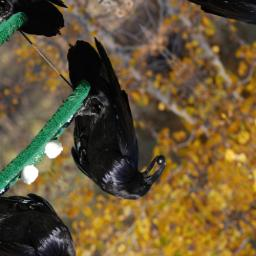Crow: (15, 27, 194, 219)
